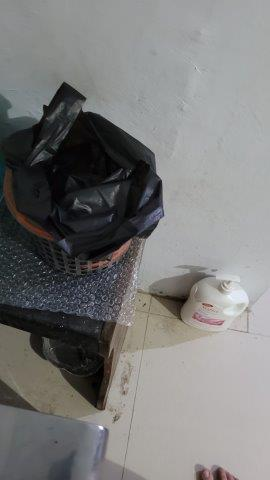plastik: (11, 83, 164, 247)
